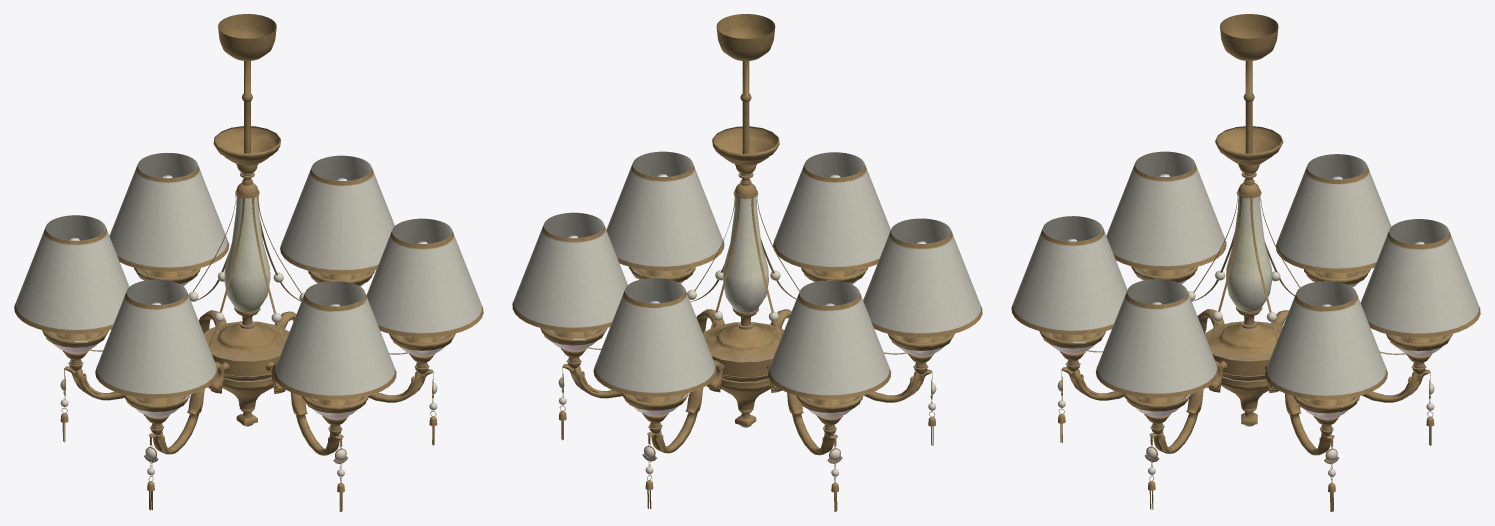
The model's file is chandelier_01_4k-v1.glb.
The picture shows the model from 3 angles, left to right: view 1: azimuth 30°, elevation 25°; view 2: azimuth 150°, elevation 25°; view 3: azimuth 270°, elevation 25°; orthographic projection.
Parts seen in each view (by area): view 1: Chandelier_01; view 2: Chandelier_01; view 3: Chandelier_01.
Boxes of the visible parts, left/top/right/bottom form: Chandelier_01: left=14, top=14, right=483, bottom=511; Chandelier_01: left=512, top=14, right=982, bottom=511; Chandelier_01: left=1011, top=14, right=1480, bottom=511.
Bounding box in the file's own units: 0.7465 × 0.7983 × 0.8155.
Materials: 2 (1 with a texture image).
